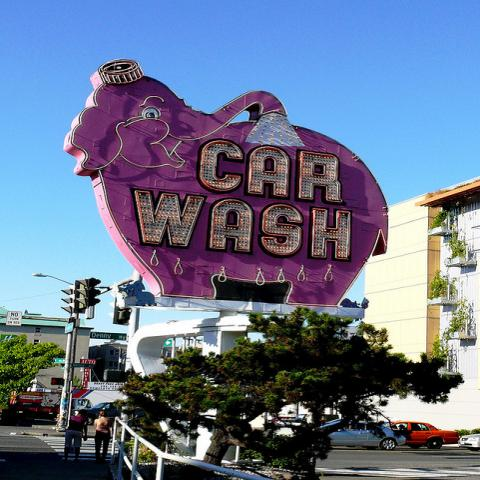car: (320, 419, 406, 451), (382, 421, 458, 450), (458, 434, 479, 452)
